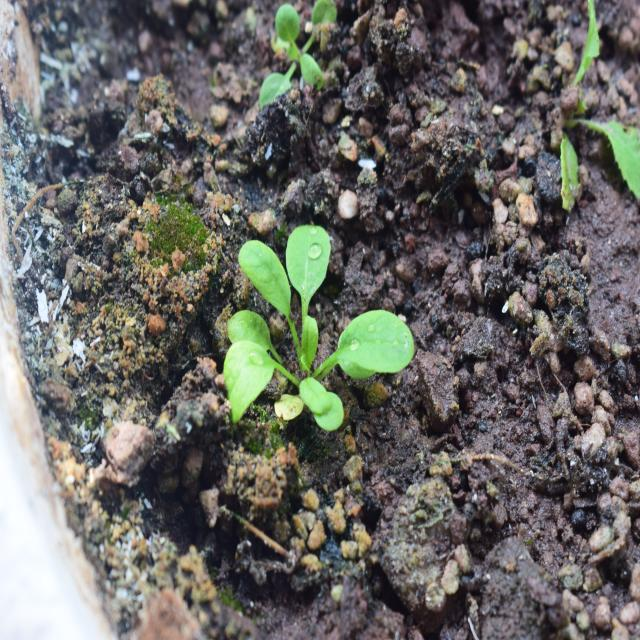Shepherd_Purse: (226, 217, 414, 442)
